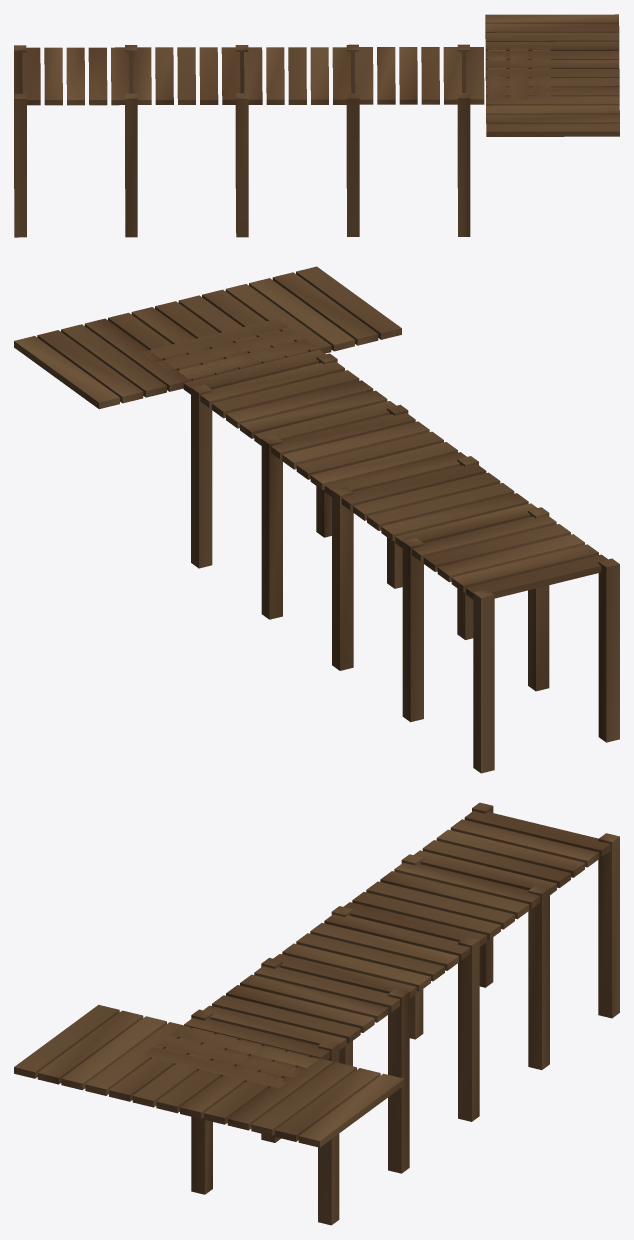
The model's file is TRN2_Pier_East.fbx.
3 views of the same model, one above another, from view 1: azimuth 30°, elevation 25°; view 2: azimuth 150°, elevation 25°; view 3: azimuth 270°, elevation 25° (orthographic). The views are drawn at different scales.
Visible parts, largest first — view 1: TRN2_Pier_East.001; view 2: TRN2_Pier_East.001; view 3: TRN2_Pier_East.001.
Part boxes in pixels (box(x1,y1,x2,y2)): TRN2_Pier_East.001: box(14, 14, 619, 237); TRN2_Pier_East.001: box(14, 266, 619, 773); TRN2_Pier_East.001: box(14, 802, 619, 1225).
Bounding box in the file's own units: 13.1 × 3.2 × 9.97.
